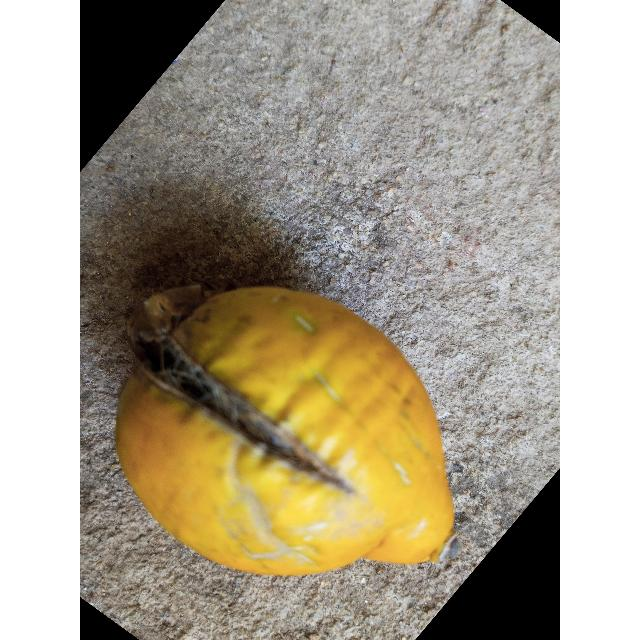damaged: (114, 286, 455, 578)
